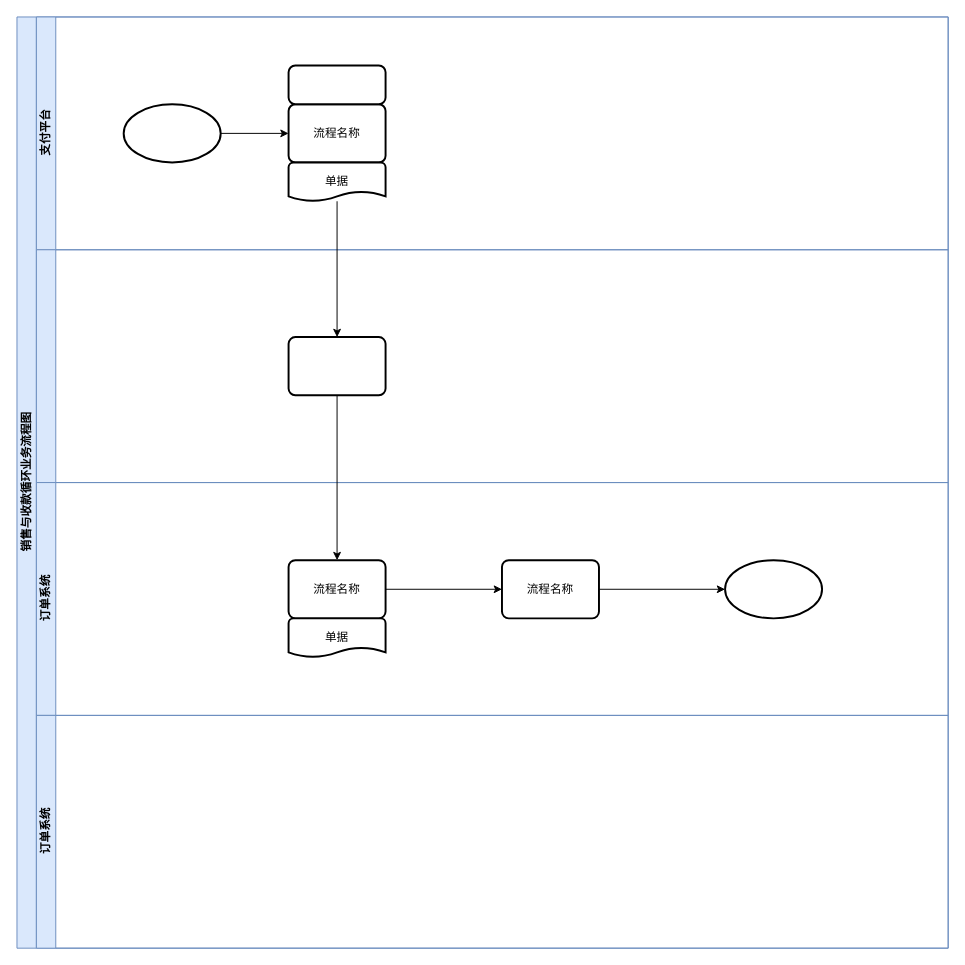
Image size: 965x965. Some labels were removed from this diagram. Here are the shapes that lost their labels. From the top down, the box of each, then its label:
(287, 64, 386, 105): 流程负责人
(122, 103, 221, 163): 开始
(287, 336, 386, 396): 简单流程 可以直接简化表示
(35, 249, 948, 483): 用户
(724, 559, 823, 619): 结束
